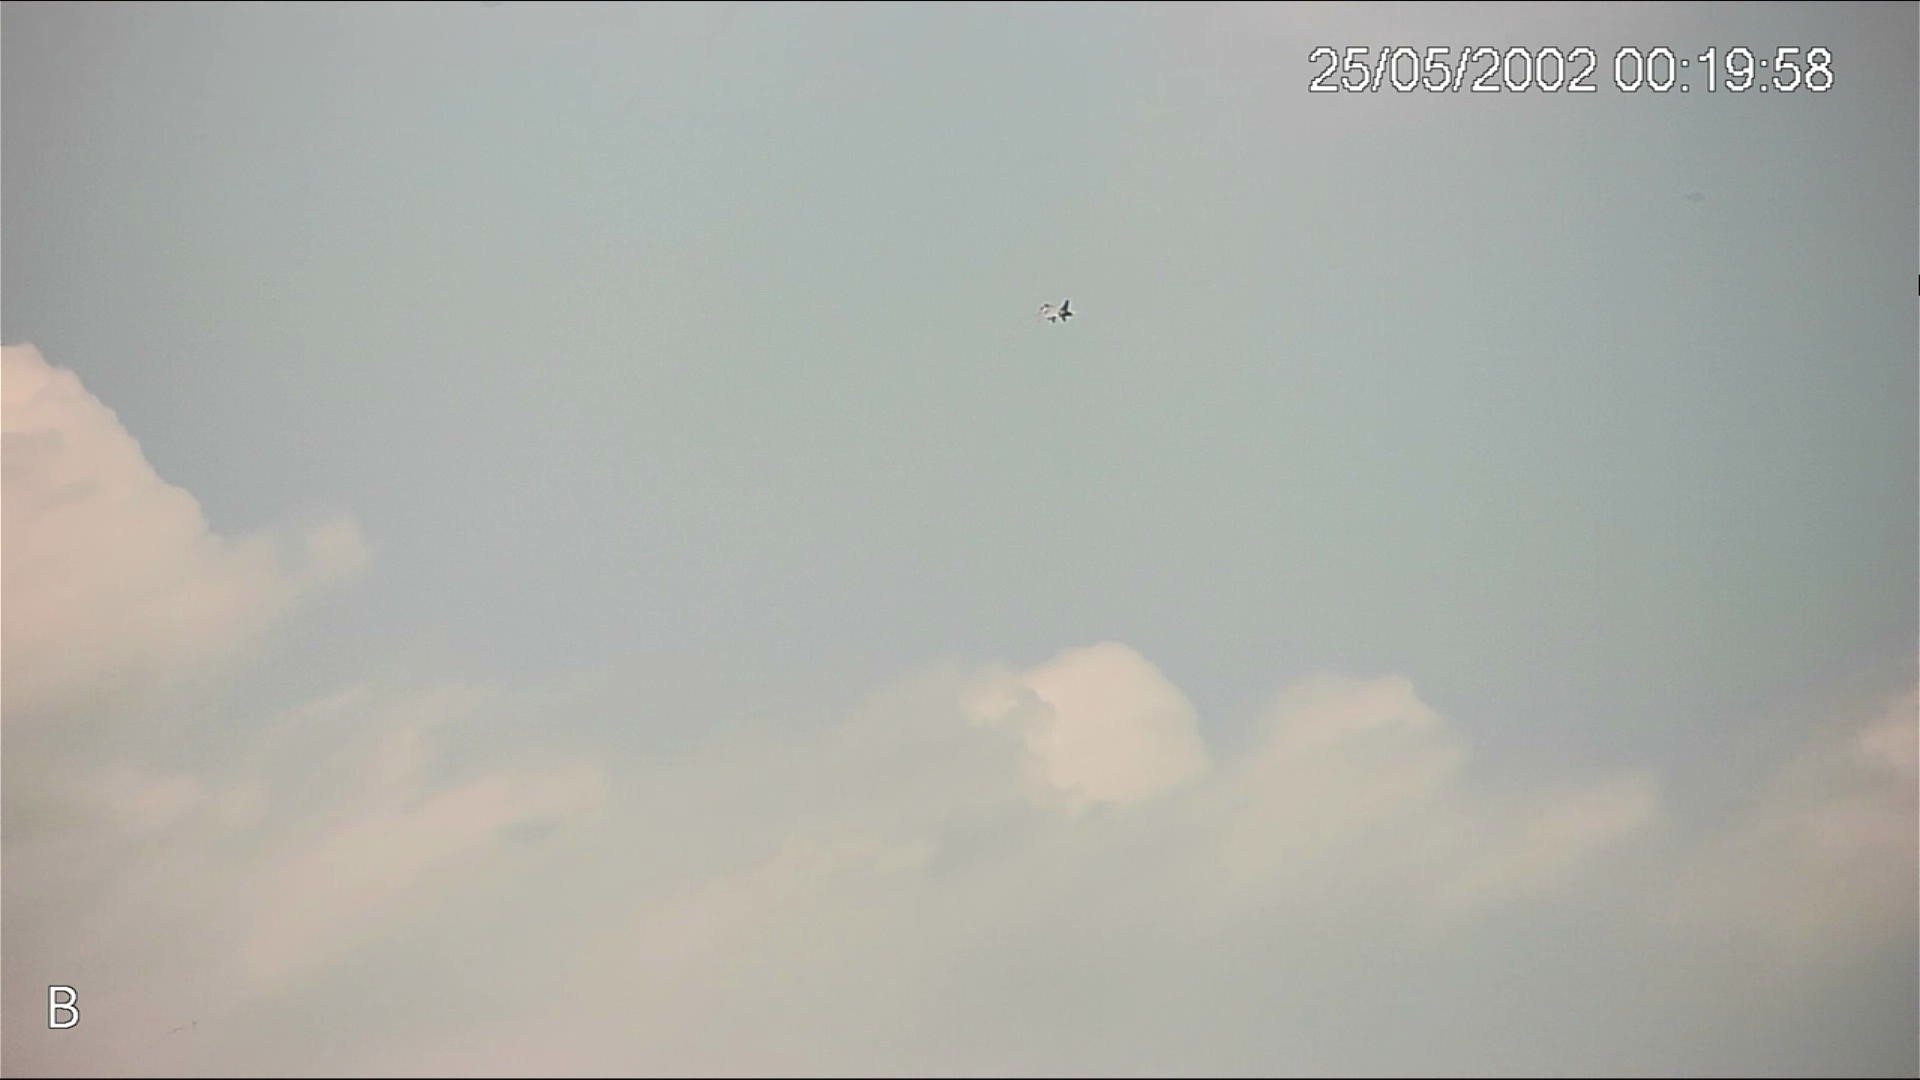SU_30: (1036, 299, 1069, 324)
